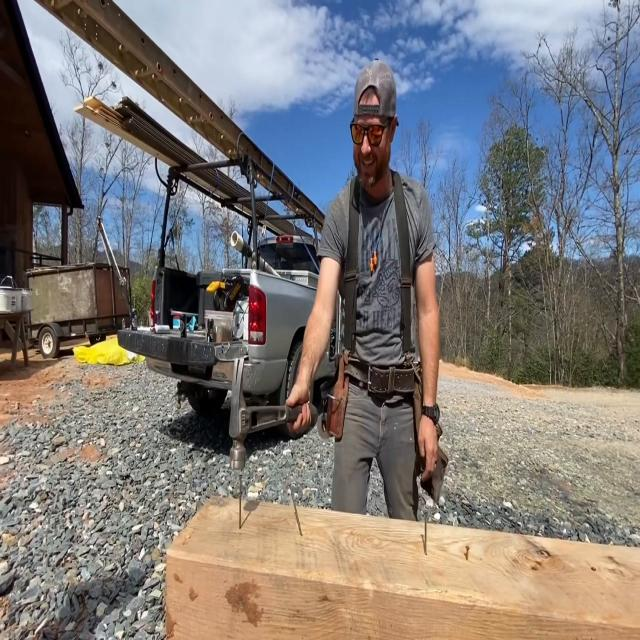hammer: (228, 353, 320, 473)
